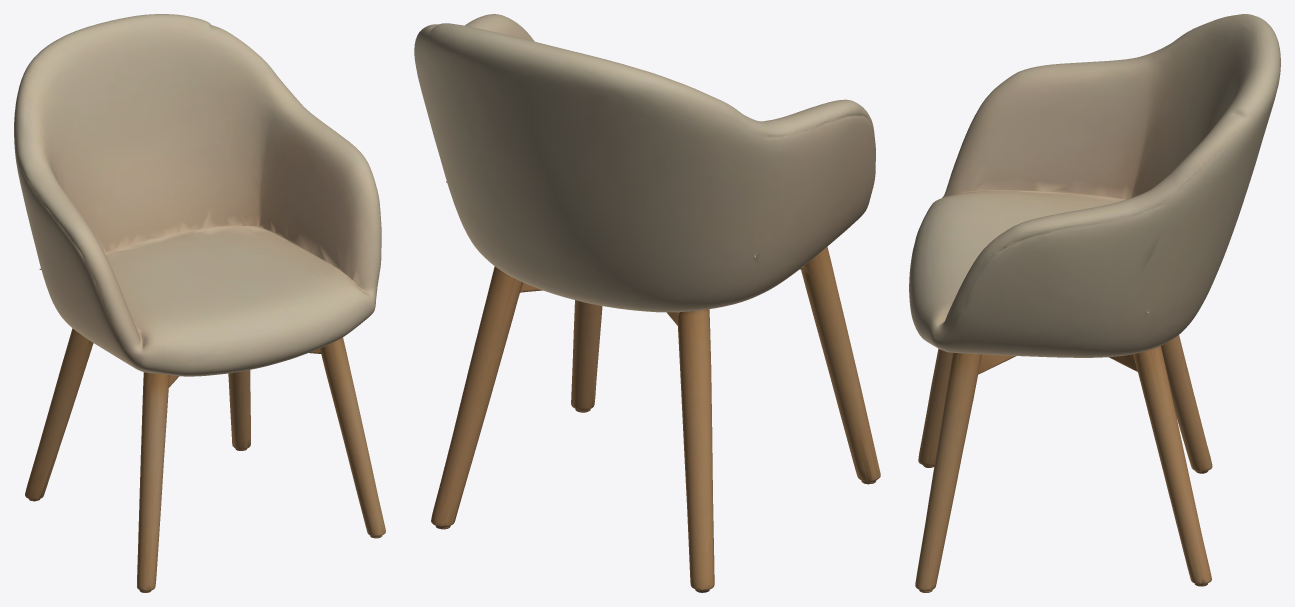
The picture shows the model from 3 angles, left to right: view 1: azimuth 30°, elevation 25°; view 2: azimuth 150°, elevation 25°; view 3: azimuth 270°, elevation 25°; orthographic projection. The views are drawn at different scales.
Parts seen in each view (by area): view 1: material; view 2: material; view 3: material.
Boxes of the visible parts, box(x1,y1,x2,y2) form: material: box(14, 14, 385, 592); material: box(414, 14, 880, 592); material: box(909, 14, 1280, 592).
Size of the model in its own units: 0.66 by 0.9064 by 0.6347.
1 material, 1 textured.
